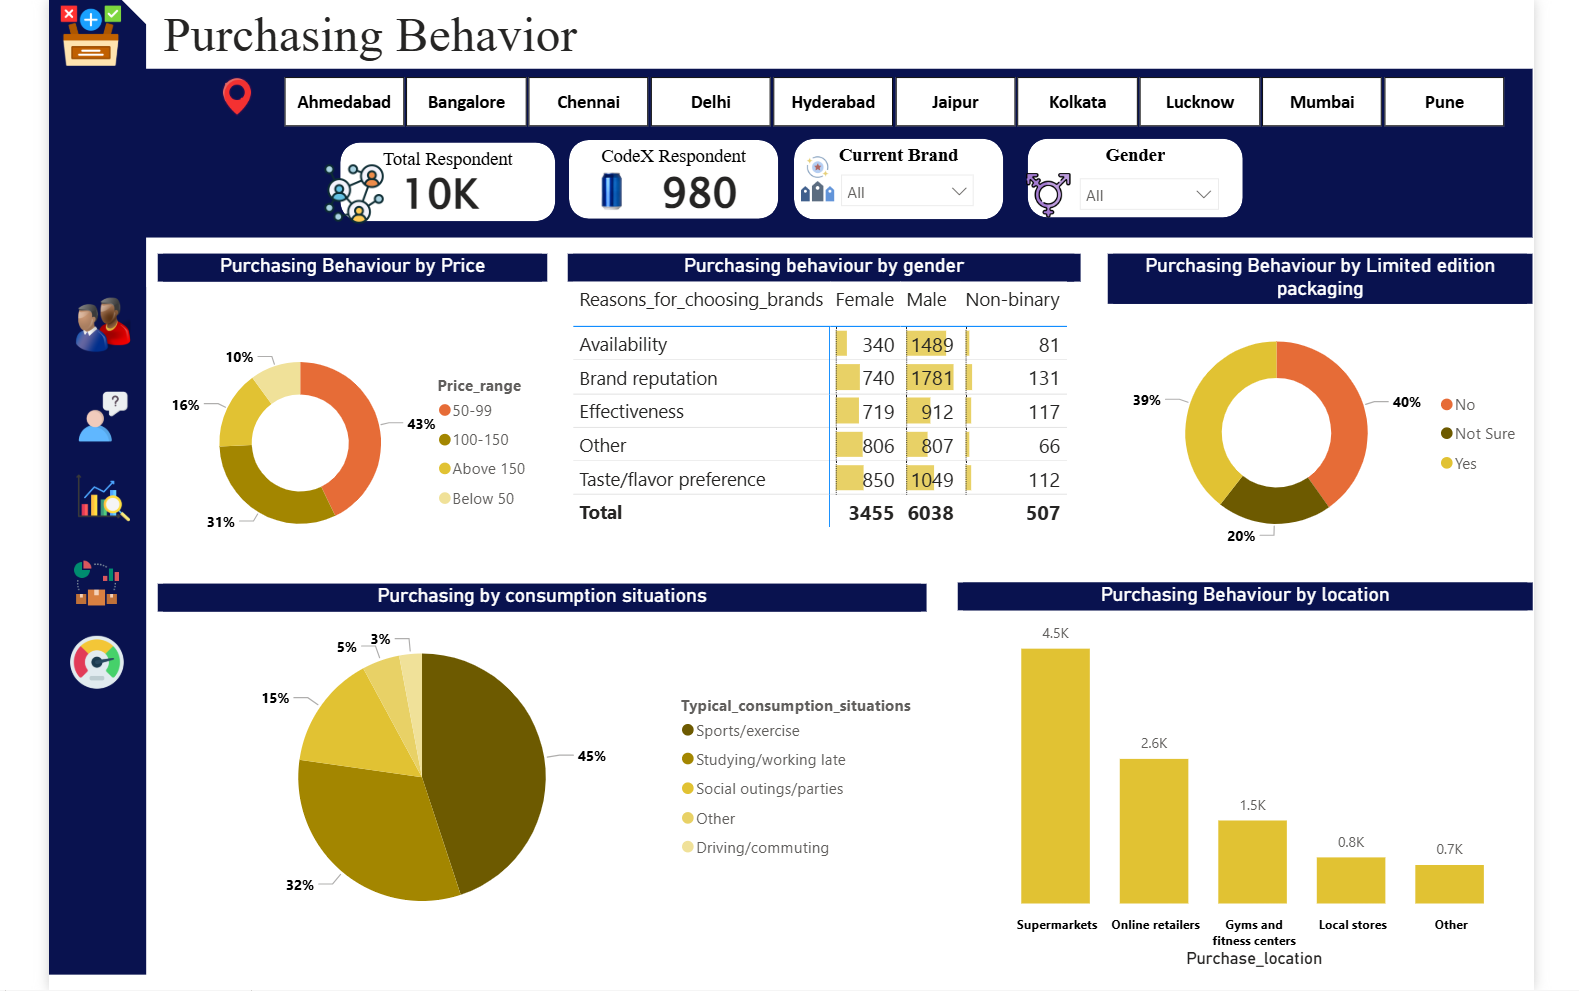

What the dashboard file says about the page in this screenshot:
{"tool":"powerbi","page":{"name":"Purchashing Behaviour","canvas":[1281,854],"ordinal":3},"visuals":[{"type":"shape","box":[67.9,59.6,1211.8,145.7],"z":0},{"type":"shape","box":[642.3,119.2,180.5,69.5],"z":1000},{"type":"textbox","box":[93.3,0,391.7,60],"z":2000},{"type":"shape","box":[0,0,84.1,841],"z":3000},{"type":"shape","box":[448.6,120.9,180.5,67.9],"z":4000},{"type":"card","fields":{"Values":["fact_survey_responses.codex respondent"]},"box":[509.9,137.4,102.6,56.3],"z":5000},{"type":"shape","box":[251.6,122.5,185.4,67.9],"z":6000},{"type":"card","fields":{"Values":["measure.Total Respondent"]},"box":[263.2,140.7,149,49.7],"z":7000},{"type":"slicer","fields":{"Values":["dim_cities.City"]},"box":[177.1,59.6,1102.6,56.3],"z":8000},{"type":"columnChart","title":"Purchasing Behaviour by location","fields":{"Category":["fact_survey_responses.Purchase_location"],"Y":["CountNonNull(dim_repondents.Respondent_ID)"]},"box":[783.4,502.6,495.9,337.9],"z":9000},{"type":"slicer","fields":{"Values":["fact_survey_responses.Current_brands"]},"box":[673.3,140,135,46.7],"z":10000},{"type":"shape","box":[844.3,119.2,185.4,67.9],"z":11000},{"type":"slicer","fields":{"Values":["dim_repondents.Gender"]},"box":[878.3,143.3,140,40],"z":12000},{"type":"image","box":[836,144,53,48],"z":13000},{"type":"image","box":[129.1,59.6,66.2,48],"z":14000},{"type":"image","box":[195.4,137.4,135.8,61.3],"z":15000},{"type":"image","box":[629.1,129.1,69.5,49.7],"z":16000},{"type":"image","box":[448.6,140.7,72.8,46.4],"z":17000},{"type":"donutChart","title":"Purchasing Behaviour by Price","fields":{"Category":["fact_survey_responses.Price_range"],"Y":["CountNonNull(dim_repondents.Respondent_ID)"]},"box":[94.1,218.5,336.2,307.6],"z":18000},{"type":"pieChart","title":"Purchasing by consumption situations","fields":{"Category":["fact_survey_responses.Typical_consumption_situations"],"Y":["measure.Total Respondent"]},"box":[93.3,503.3,663.3,315],"z":19000},{"type":"pivotTable","title":"Purchasing behaviour by gender","fields":{"Rows":["fact_survey_responses.Reasons_for_choosing_brands"],"Values":["measure.Total Respondent"],"Columns":["dim_repondents.Gender"]},"box":[447.2,218.5,442.1,270.7],"z":20000},{"type":"donutChart","title":"Purchasing Behaviour by Limited edition packaging","fields":{"Y":["measure.Total Respondent"],"Series":["fact_survey_responses.Limited_edition_packaging"]},"box":[912.8,218.5,366.5,270.7],"z":21000},{"type":"image","box":[1.7,0,68.3,61.7],"z":22000},{"type":"image","box":[18.3,250,56.7,60],"z":23000},{"type":"image","box":[18.3,395,56.7,70],"z":24000},{"type":"image","box":[16.7,470,50,65],"z":25000},{"type":"image","box":[13.3,535,56.7,73.3],"z":26000},{"type":"image","box":[18.3,325,56.7,70],"z":27000}]}

Visuals, with their boxes on the page's 1281x854 design canvas (x1, y1, x2, y2). These are canvas units, not pixel positions in the 1579x991 screenshot, which may show the page scaled, cropped or inside an application window:
shape: [68, 60, 1280, 205]
shape: [642, 119, 823, 189]
textbox: [93, 0, 485, 60]
shape: [0, 0, 84, 841]
shape: [449, 121, 629, 189]
card - fact_survey_responses.codex respondent: [510, 137, 612, 194]
shape: [252, 122, 437, 190]
card - measure.Total Respondent: [263, 141, 412, 190]
slicer - dim_cities.City: [177, 60, 1280, 116]
"Purchasing Behaviour by location" columnChart: [783, 503, 1279, 840]
slicer - fact_survey_responses.Current_brands: [673, 140, 808, 187]
shape: [844, 119, 1030, 187]
slicer - dim_repondents.Gender: [878, 143, 1018, 183]
image: [836, 144, 889, 192]
image: [129, 60, 195, 108]
image: [195, 137, 331, 199]
image: [629, 129, 699, 179]
image: [449, 141, 521, 187]
"Purchasing Behaviour by Price" donutChart: [94, 218, 430, 526]
"Purchasing by consumption situations" pieChart: [93, 503, 757, 818]
"Purchasing behaviour by gender" pivotTable: [447, 218, 889, 489]
"Purchasing Behaviour by Limited edition packaging" donutChart: [913, 218, 1279, 489]
image: [2, 0, 70, 62]
image: [18, 250, 75, 310]
image: [18, 395, 75, 465]
image: [17, 470, 67, 535]
image: [13, 535, 70, 608]
image: [18, 325, 75, 395]
